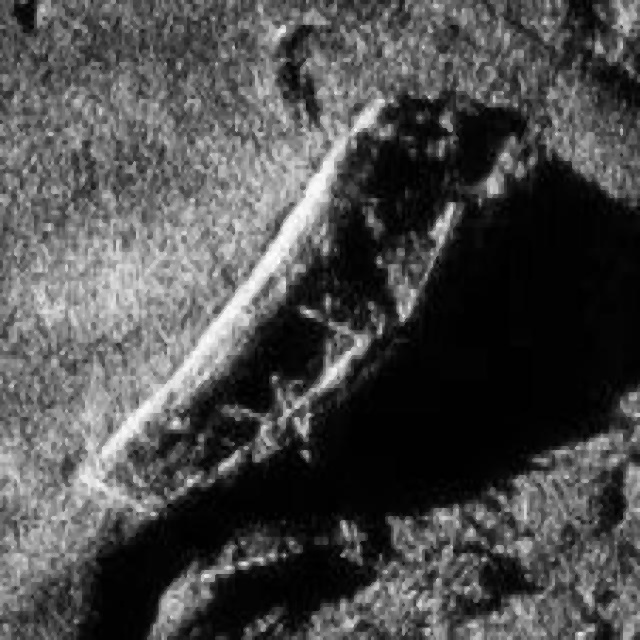Ship: (71, 83, 537, 523)
